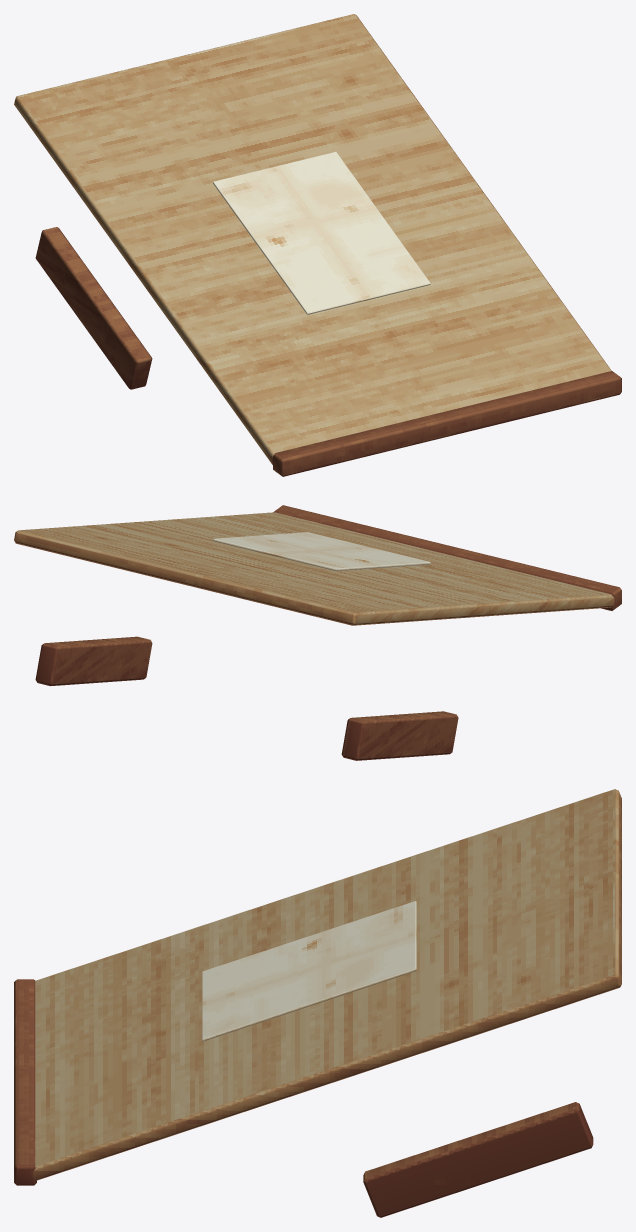
Rendered from drawing_board.glb.
3 renders of one model, top to bottom at view 1: azimuth 30°, elevation 25°; view 2: azimuth 150°, elevation 25°; view 3: azimuth 270°, elevation 25°, orthographic. The views are drawn at different scales.
Visible parts, largest first — view 1: mesh; view 2: mesh; view 3: mesh.
Boxes of the visible parts, x1=… form: mesh: x1=14, y1=14, x2=621, y2=476; mesh: x1=14, y1=505, x2=621, y2=760; mesh: x1=14, y1=789, x2=621, y2=1217.
Size of the model in its own units: 0.5802 by 0.357 by 0.7925.
1 material, 1 textured.
